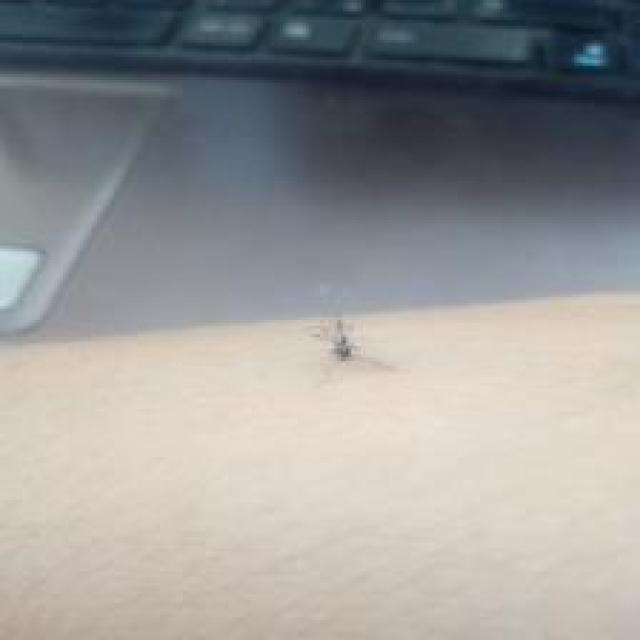Aedes albopictus: (313, 317, 361, 363)
